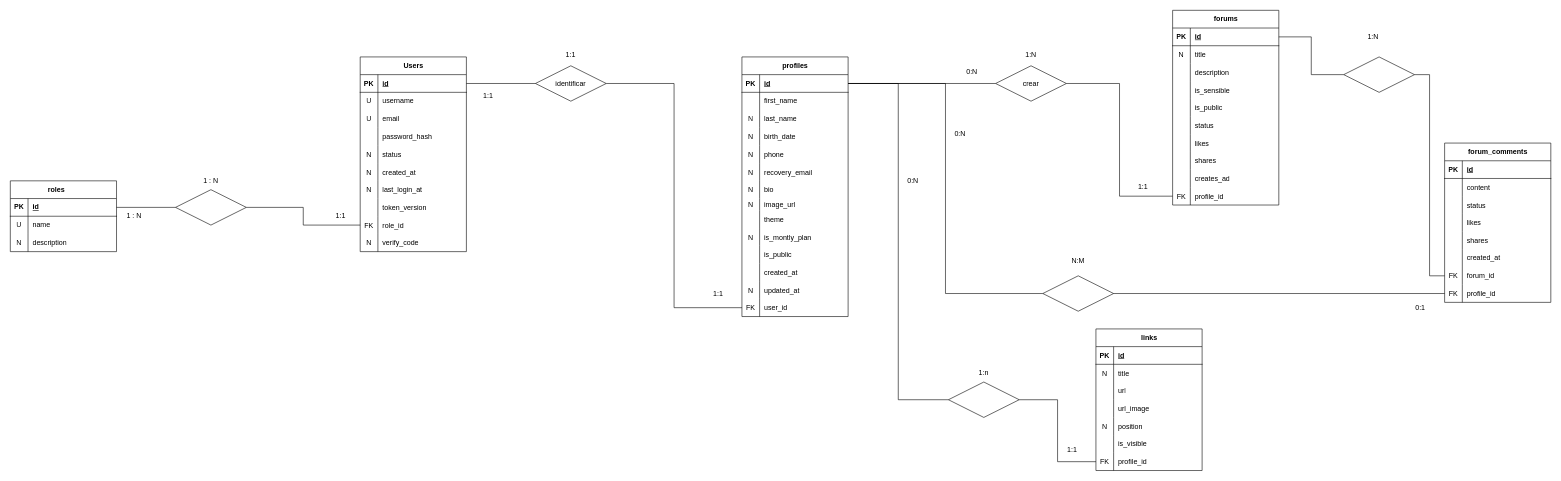
Some shapes in this 1561 by 481 pixel diagram are drawn without their labels. Each missing label, with the centre of its shape:
compartir: the point at 983,399
contiene: the point at 1379,74
escribir: the point at 1078,293
ser: the point at 210,207
